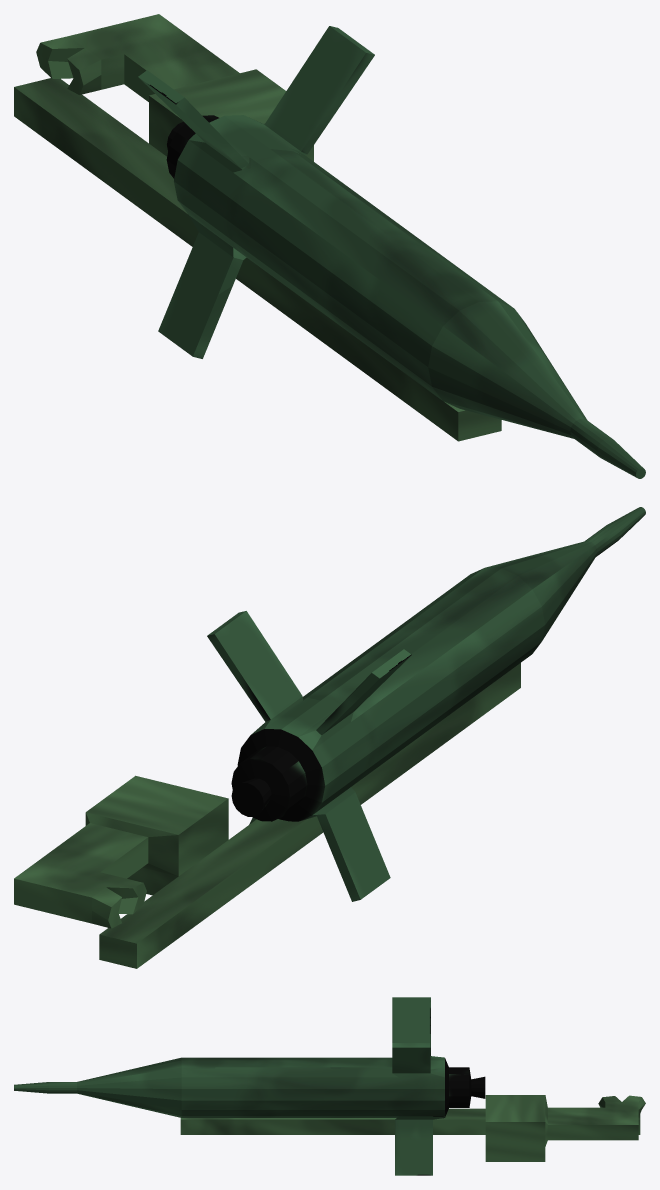
Rendered from Malyutka.fbx.
3 renders of one model, top to bottom at view 1: azimuth 30°, elevation 25°; view 2: azimuth 150°, elevation 25°; view 3: azimuth 270°, elevation 25°, orthographic. The views are drawn at different scales.
Visible parts, largest first — view 1: Missile, Launcher; view 2: Missile, Launcher; view 3: Missile, Launcher.
Part boxes in pixels (x1,y1,x2,y2): Missile: (138,26,645,478); Launcher: (14,14,501,441); Missile: (207,507,645,901); Launcher: (14,663,520,968); Missile: (14,997,485,1175); Launcher: (180,1095,645,1161).
Size of the model in its own units: 69.75 by 78.47 by 322.
Materials: 2 (2 with a texture image).
